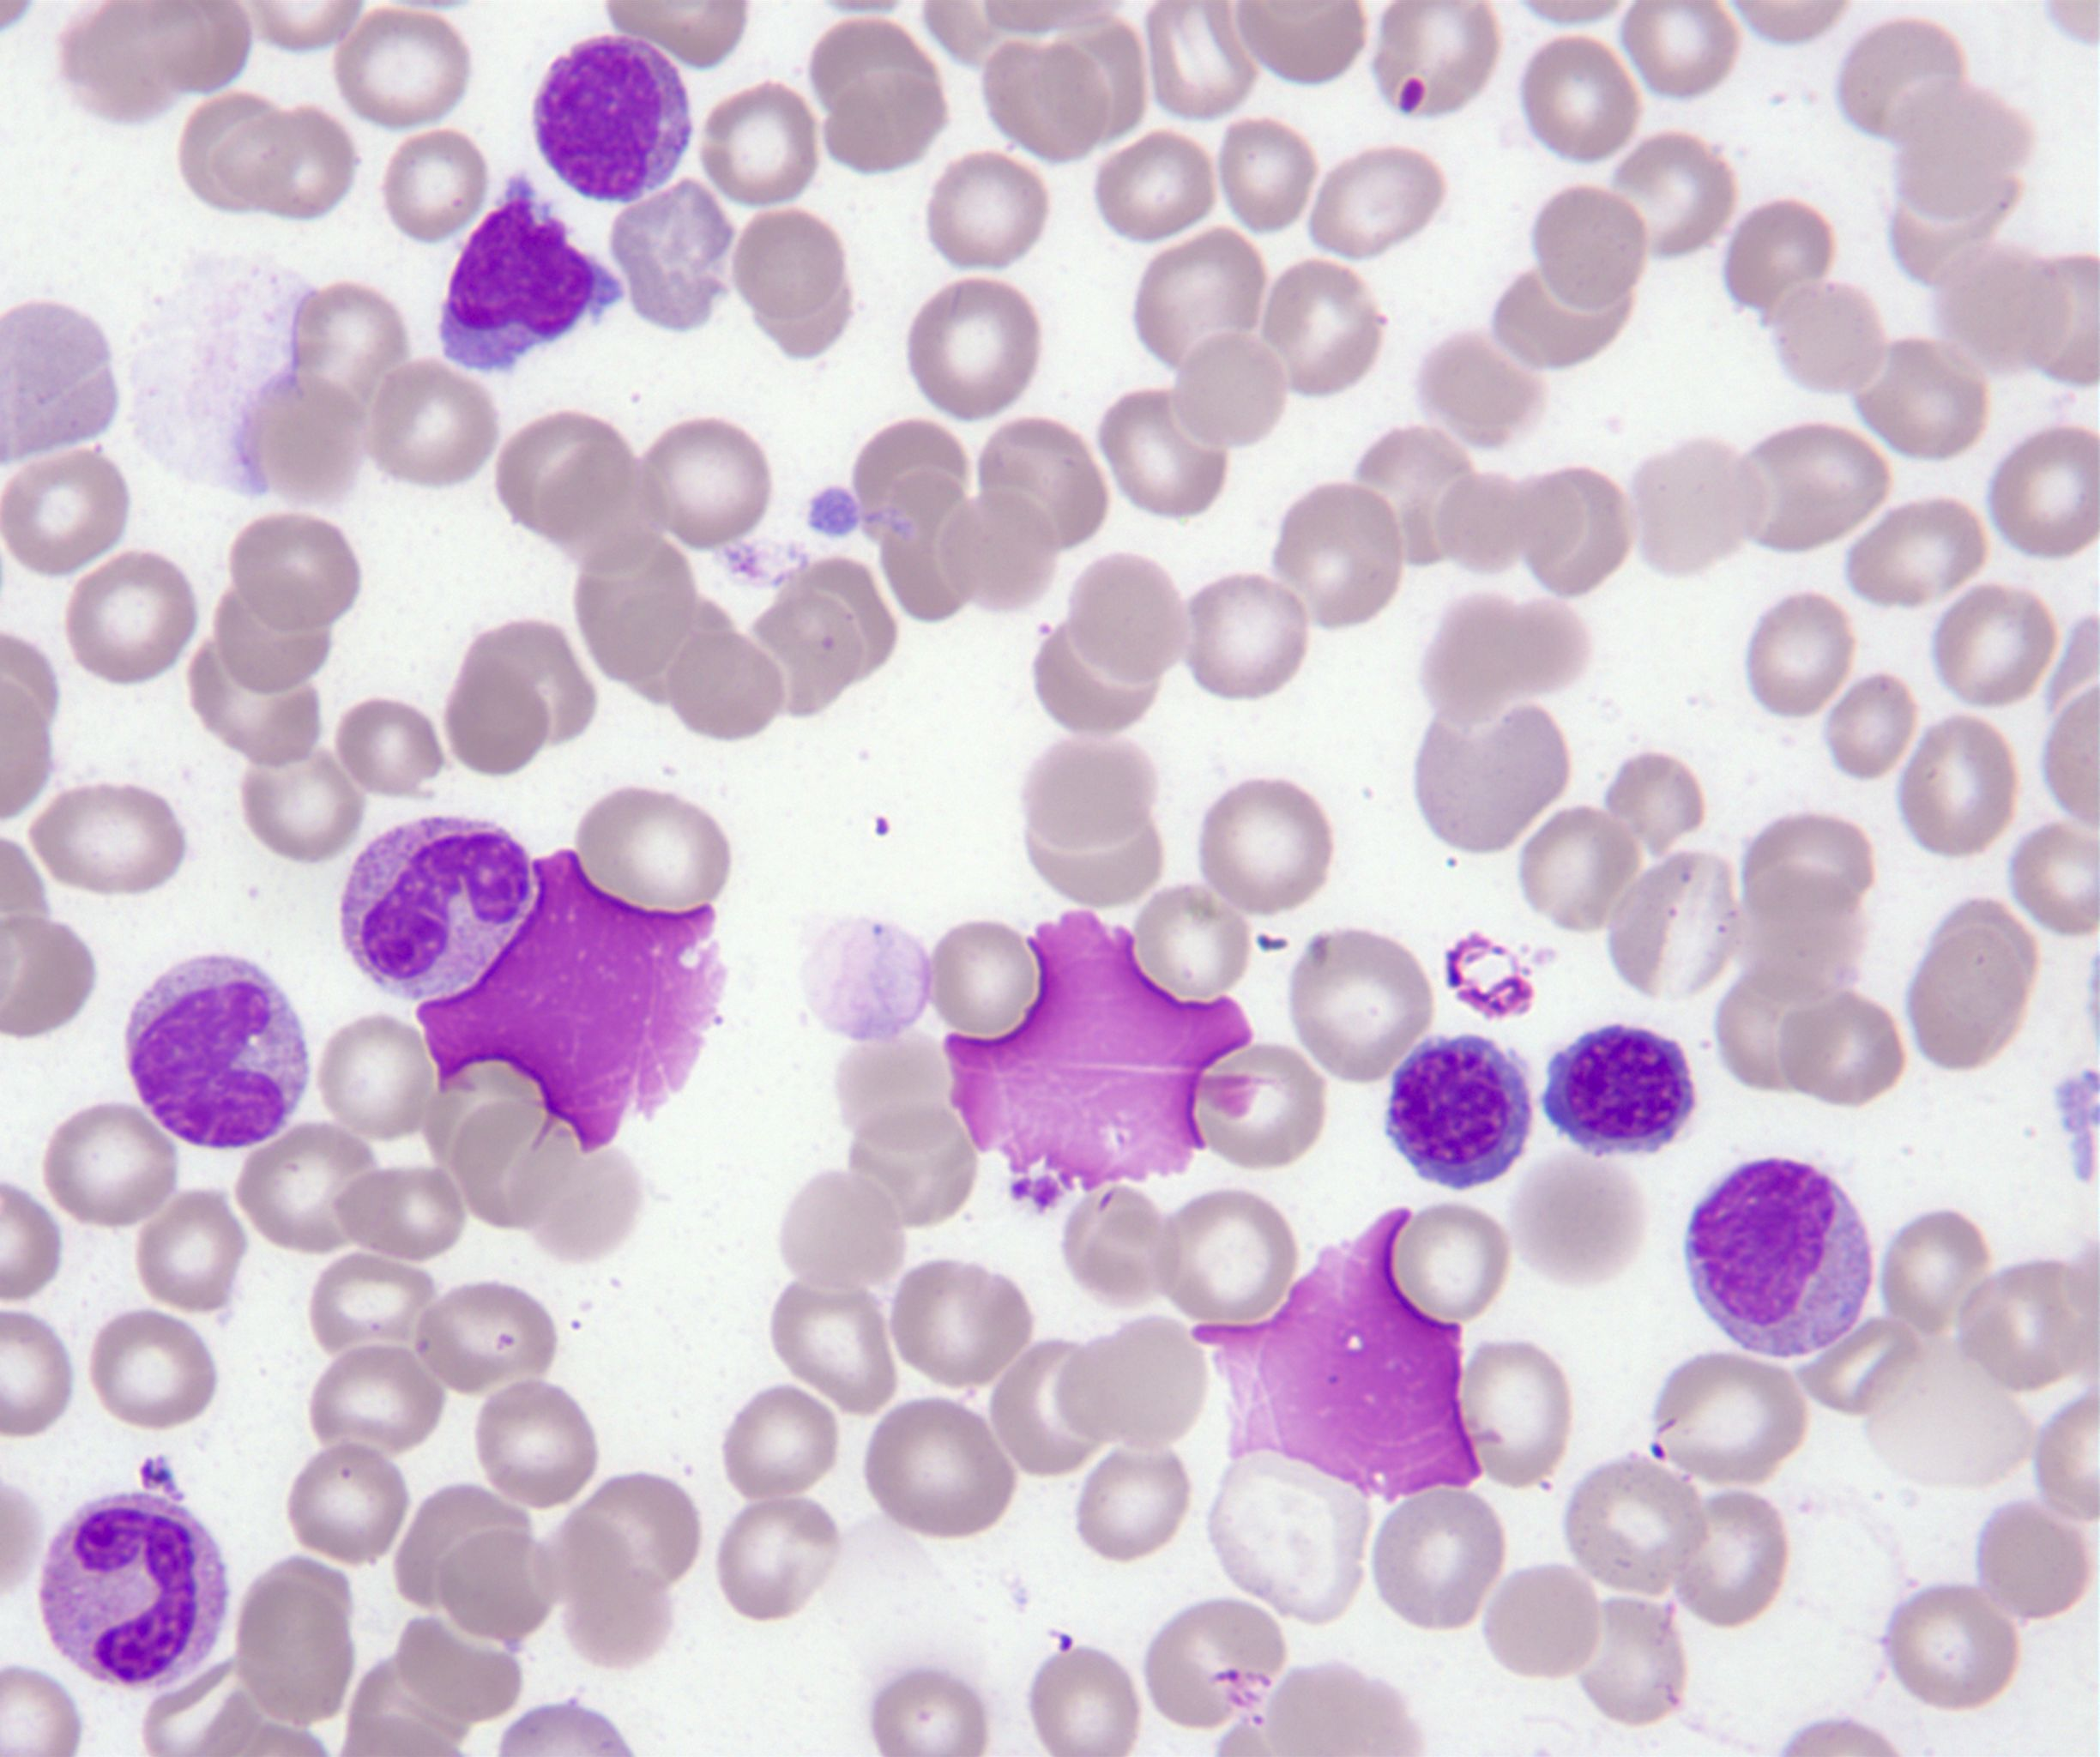23: (1385, 1035, 1530, 1188), (1540, 1024, 1692, 1153)
3: (534, 37, 691, 201)
32: (441, 178, 619, 372)
4: (126, 954, 309, 1150)
42: (1688, 1159, 1873, 1357)
5: (342, 820, 541, 1002), (40, 1494, 225, 1687)
x: (419, 853, 719, 1150), (945, 911, 1252, 1193), (1193, 1207, 1484, 1499)
